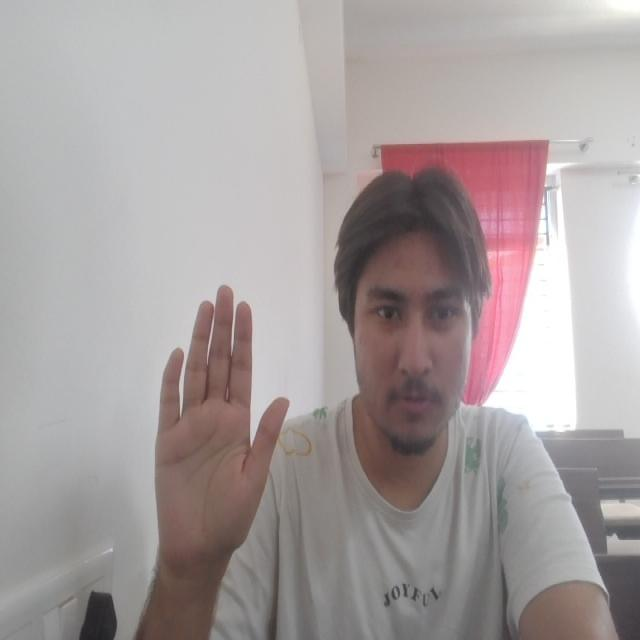hello: (155, 282, 292, 566)
